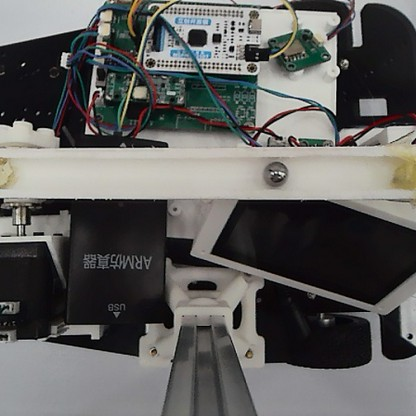ironball: (261, 159, 288, 187)
